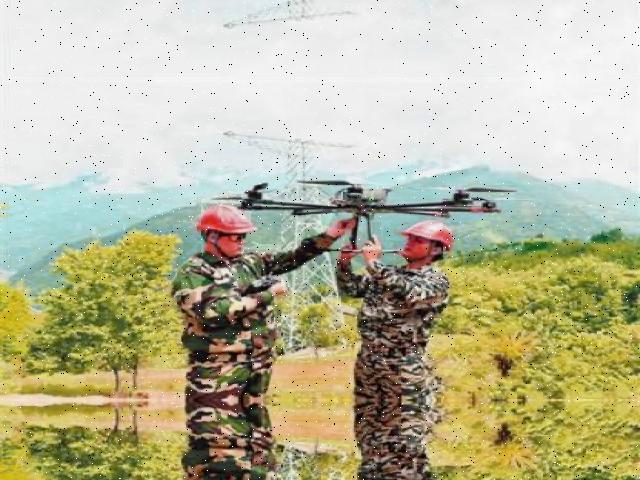Helmet: (189, 199, 255, 238), (395, 215, 455, 252)
